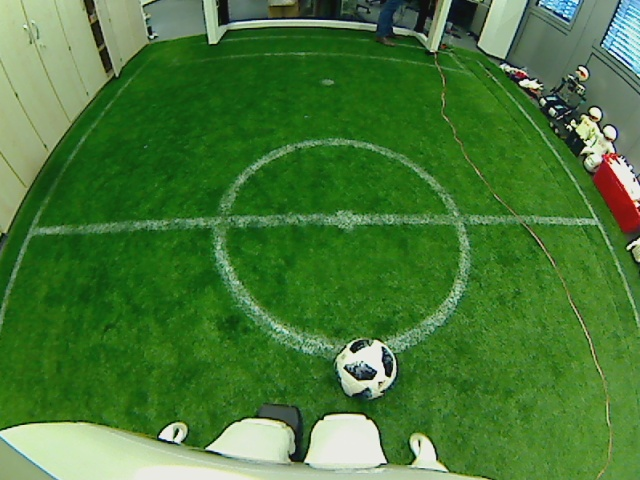ball: (332, 336, 398, 400)
